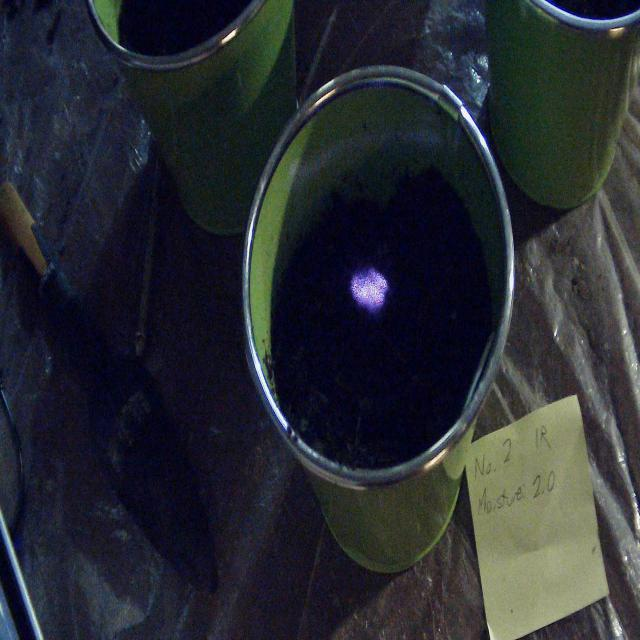soil-moisture-2.0: (350, 269, 387, 309)
